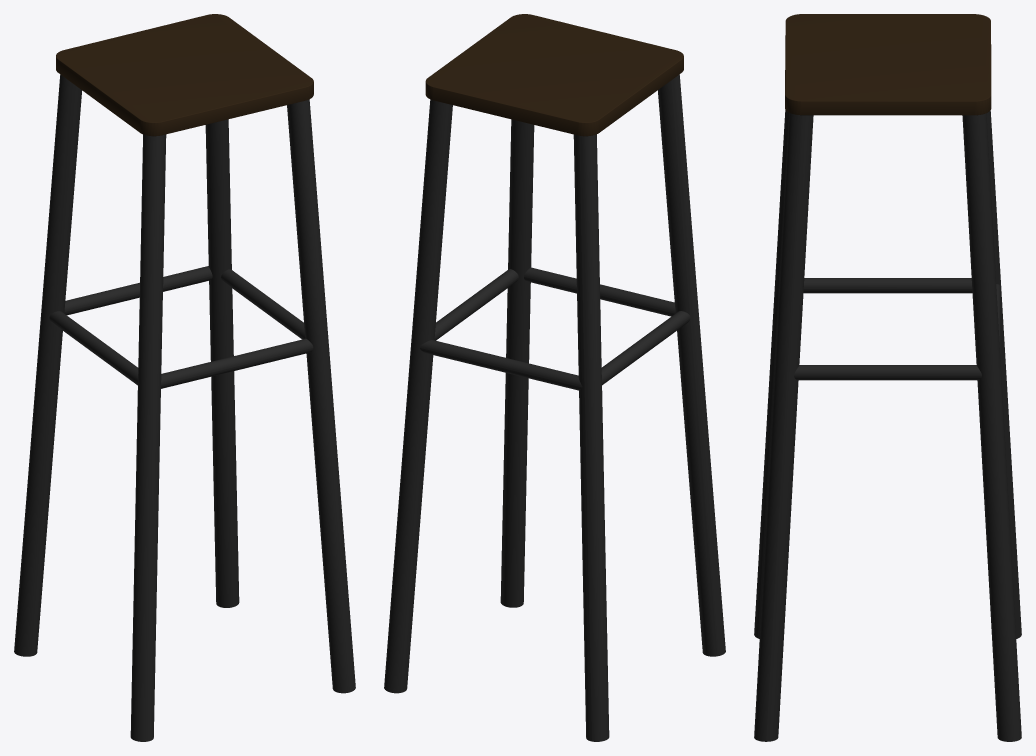
Rendered from long chair 01.glb.
3 views of the same model, side by side, from view 1: azimuth 30°, elevation 25°; view 2: azimuth 150°, elevation 25°; view 3: azimuth 270°, elevation 25° (orthographic). The views are drawn at different scales.
Visible parts, largest first — view 1: 실린더.001, 실린더.004; view 2: 실린더.001, 실린더.004; view 3: 실린더.001, 실린더.004.
Boxes of the visible parts, left/top/right/bottom form: 실린더.001: left=14, top=74, right=355, bottom=741; 실린더.004: left=56, top=14, right=313, bottom=136; 실린더.001: left=384, top=74, right=725, bottom=741; 실린더.004: left=425, top=14, right=683, bottom=136; 실린더.001: left=754, top=110, right=1021, bottom=741; 실린더.004: left=785, top=14, right=991, bottom=115.
Size of the model in its own units: 15.49 by 40.13 by 15.48.
